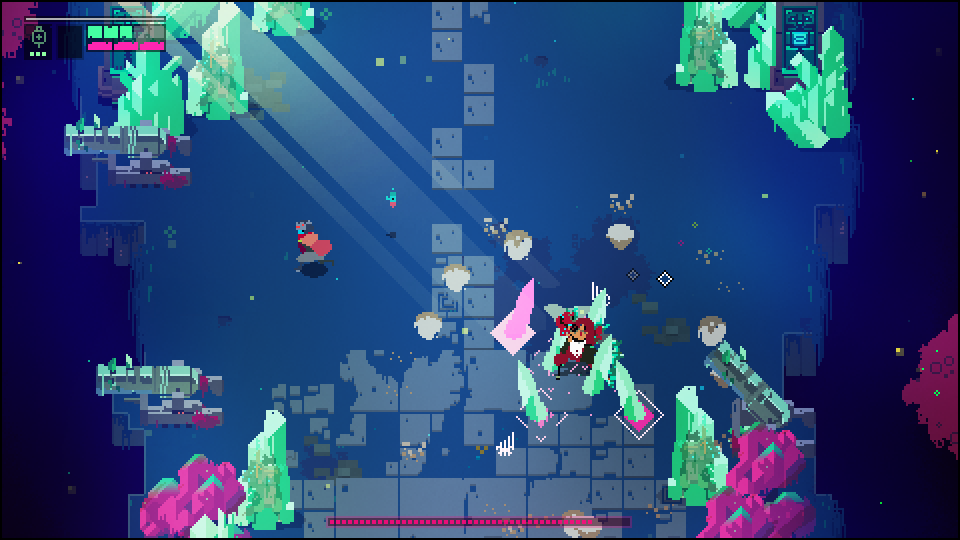hanged_crys: (615, 364, 649, 421), (517, 363, 547, 422), (510, 276, 536, 343)
hanged_man: (553, 306, 614, 377)
player: (295, 223, 333, 273)
